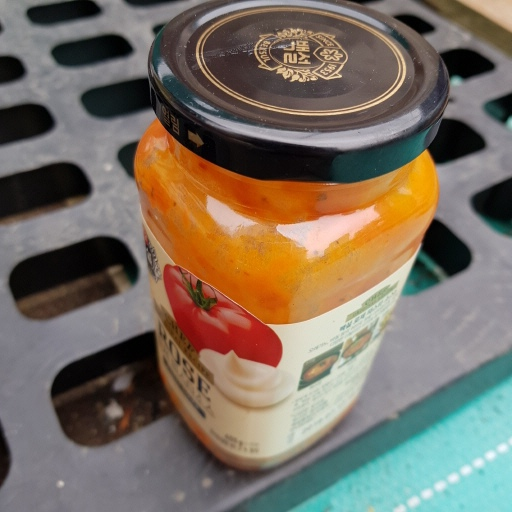Glass_5: (128, 4, 453, 471)
